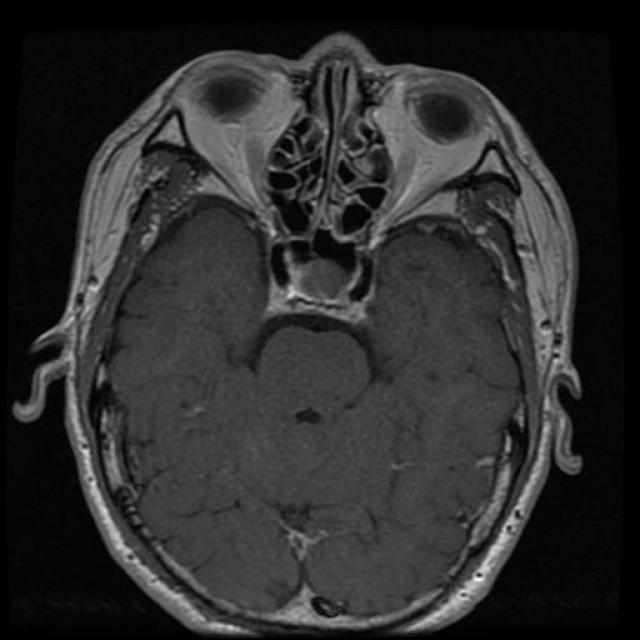pituitary: (258, 242, 376, 327)
